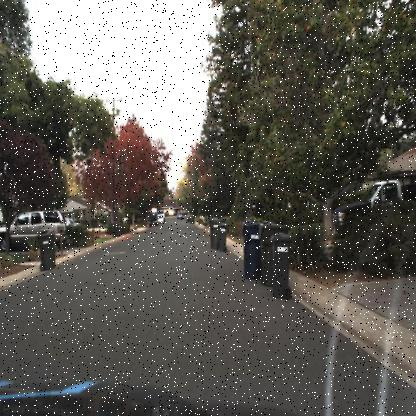car: (331, 179, 415, 245), (0, 198, 64, 258), (72, 216, 85, 232), (148, 214, 158, 229), (156, 210, 165, 223), (177, 212, 183, 219)
